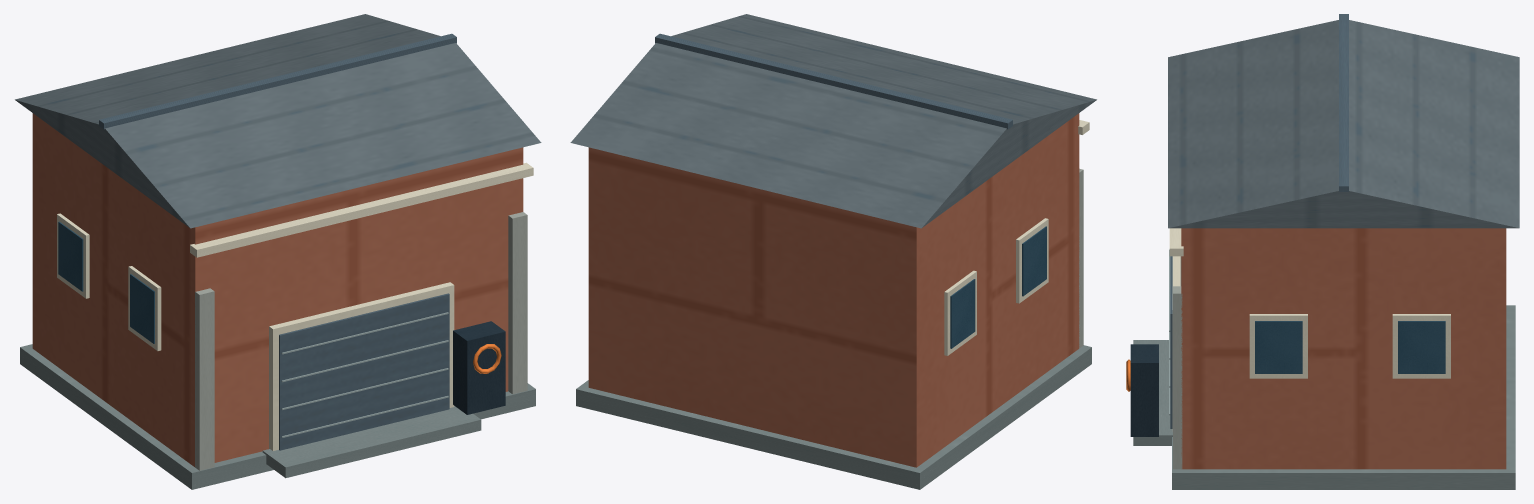
File: workshop-intact-lod.glb
3 renders of one model, left to right at view 1: azimuth 30°, elevation 25°; view 2: azimuth 150°, elevation 25°; view 3: azimuth 270°, elevation 25°, orthographic.
Visible parts, largest first — view 1: workshop-intact-lod; view 2: workshop-intact-lod; view 3: workshop-intact-lod.
Part boxes in pixels (box(x1,y1,x2,y2)): workshop-intact-lod: box(15, 14, 541, 489); workshop-intact-lod: box(570, 14, 1096, 489); workshop-intact-lod: box(1126, 14, 1519, 489).
Bounding box in the file's own units: 6.14 × 5.09 × 5.93.
2 materials, 2 textured.
